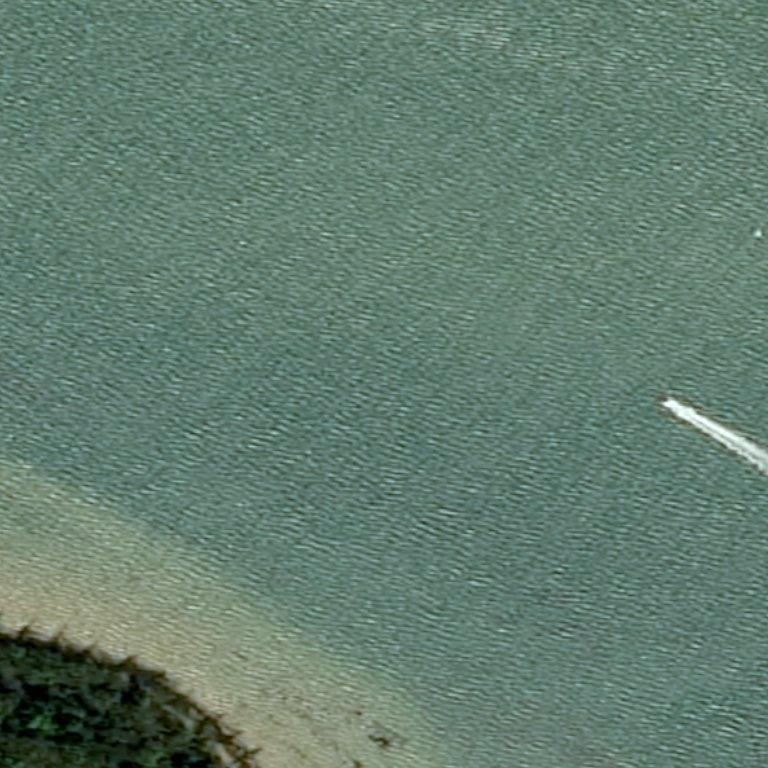ship: (654, 391, 677, 407), (655, 394, 658, 402), (667, 388, 672, 392), (670, 397, 674, 401)
